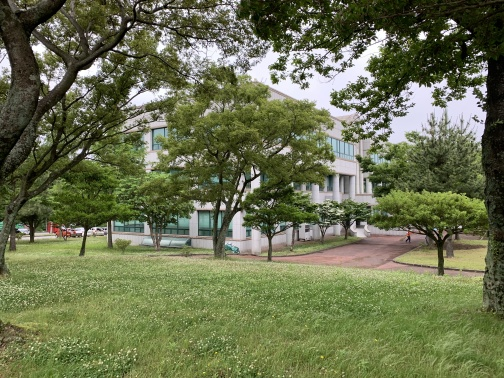Second Library: (117, 88, 384, 249)
